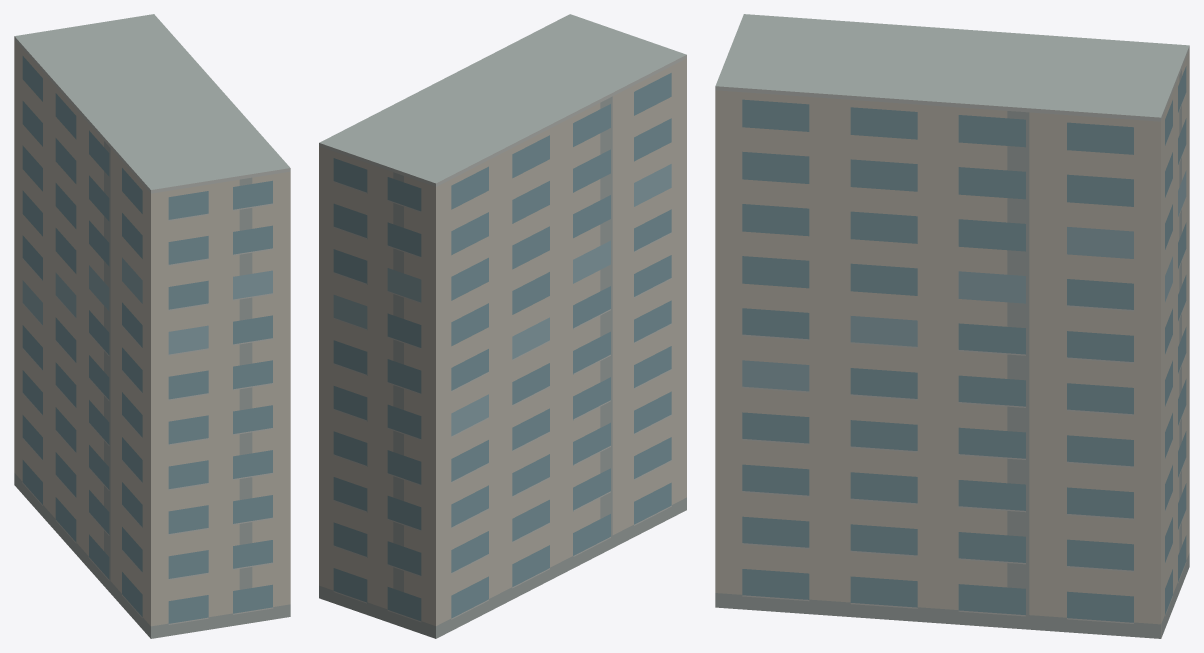
The model's file is residential-787ff6d7-02ce-40c9-9b40-a9a34640f9d5.glb.
3 views of the same model, side by side, from view 1: azimuth 30°, elevation 25°; view 2: azimuth 150°, elevation 25°; view 3: azimuth 270°, elevation 25° (orthographic). The views are drawn at different scales.
Parts seen in each view (by area): view 1: residential-787ff6d7-02ce-40c9-9b40-a9a34640f9d5.tmp; view 2: residential-787ff6d7-02ce-40c9-9b40-a9a34640f9d5.tmp; view 3: residential-787ff6d7-02ce-40c9-9b40-a9a34640f9d5.tmp.
Boxes of the visible parts, x1,y1,x2,y2 form: residential-787ff6d7-02ce-40c9-9b40-a9a34640f9d5.tmp: (14,14,290,638); residential-787ff6d7-02ce-40c9-9b40-a9a34640f9d5.tmp: (319,14,686,638); residential-787ff6d7-02ce-40c9-9b40-a9a34640f9d5.tmp: (715,14,1189,638).
Size of the model in its own units: 13.22 by 31 by 25.57.
